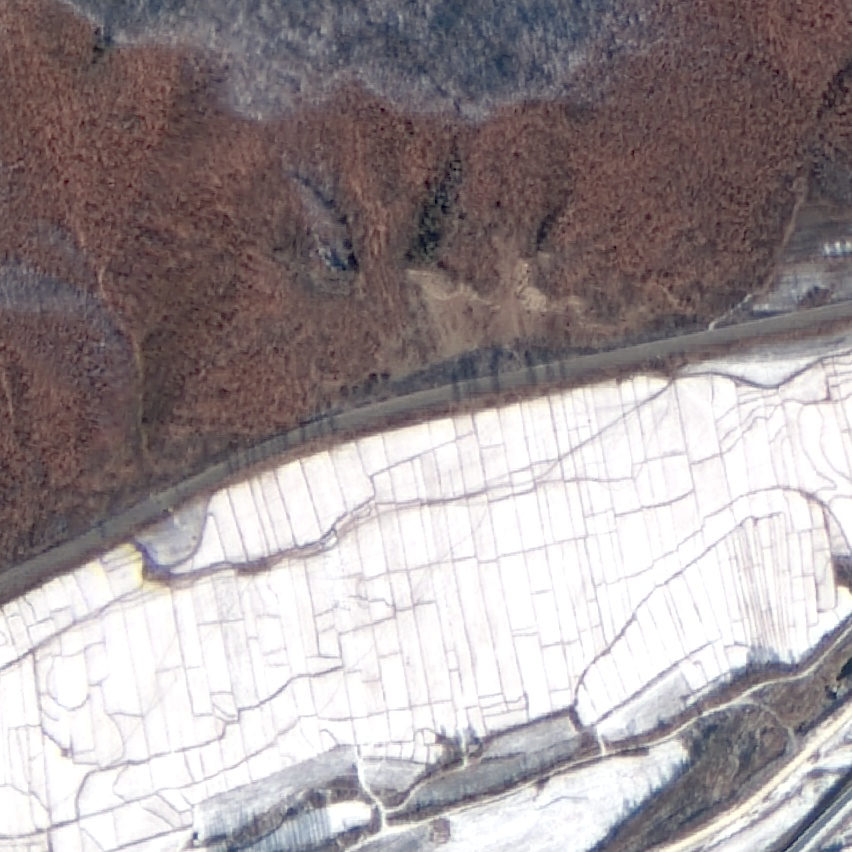slope: (359, 228, 674, 389)
